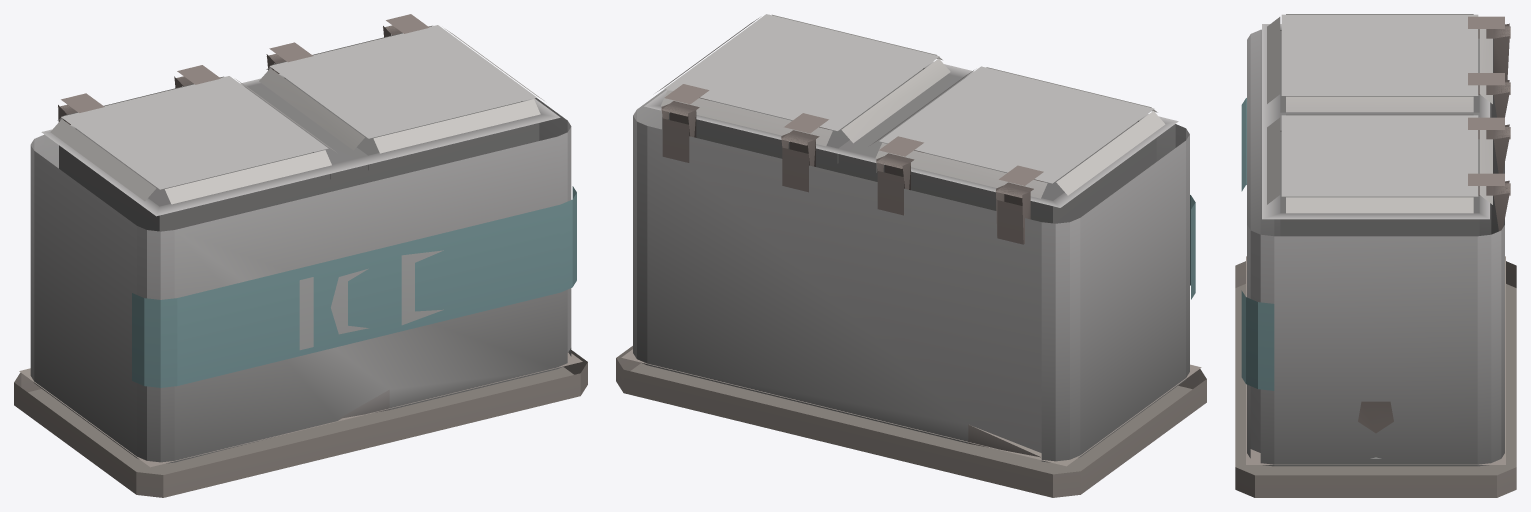
Rendered from ice.lod.glb.
3 views of the same model, side by side, from view 1: azimuth 30°, elevation 25°; view 2: azimuth 150°, elevation 25°; view 3: azimuth 270°, elevation 25° (orthographic). The views are drawn at different scales.
Parts seen in each view (by area): view 1: ice; view 2: ice; view 3: ice.
Part boxes in pixels (x1,y1,x2,y2): ice: [14, 14, 587, 497]; ice: [616, 14, 1206, 497]; ice: [1235, 14, 1516, 497].
Size of the model in its own units: 1.42 by 0.812 by 0.72.
